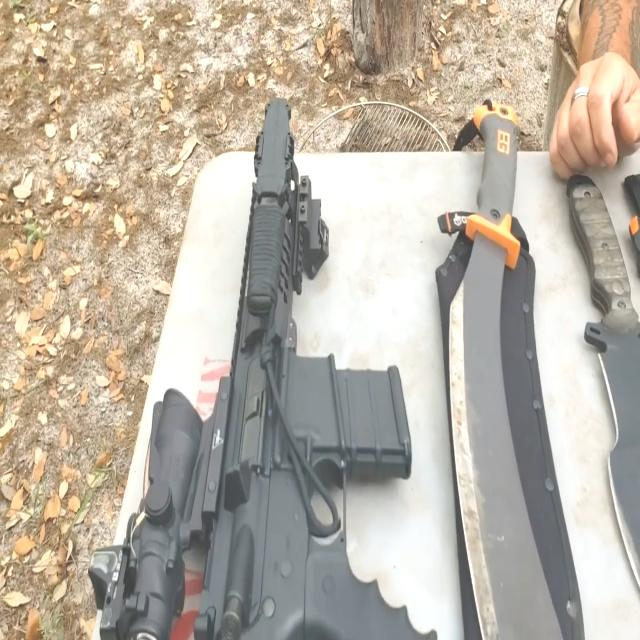knife: (422, 76, 562, 640)
long weapon: (86, 91, 432, 640)
